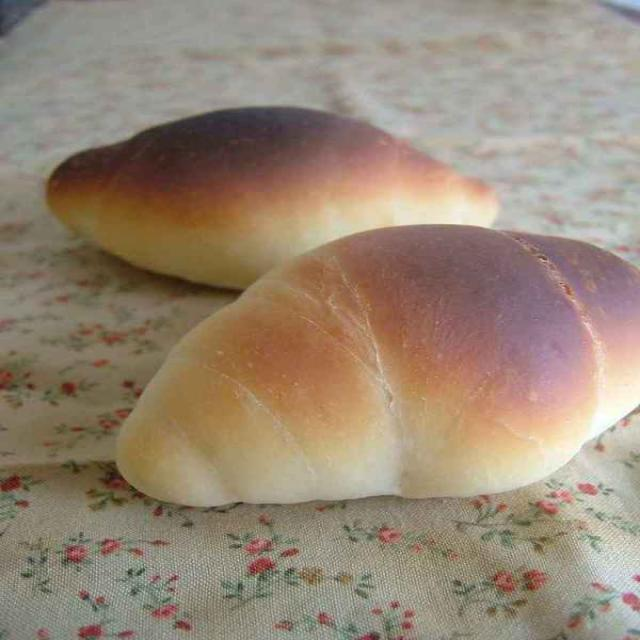面包点心: (102, 218, 640, 516)
